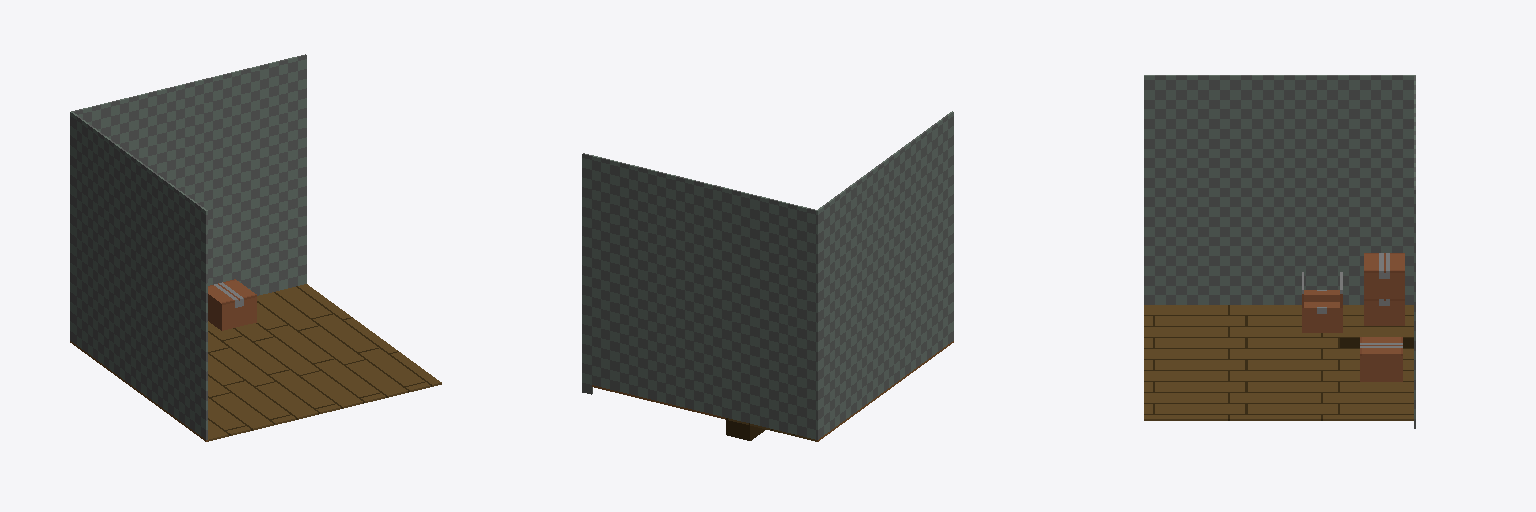
The picture shows the model from 3 angles: view 1: azimuth 30°, elevation 25°; view 2: azimuth 150°, elevation 25°; view 3: azimuth 270°, elevation 25°; orthographic projection.
Parts seen in each view (by area): view 1: porao; view 2: porao; view 3: porao.
Boxes of the visible parts, x1,y1,x2,y2 form: porao: [70, 54, 441, 441]; porao: [582, 111, 953, 441]; porao: [1144, 75, 1415, 428].
Size of the model in its own units: 126 by 126 by 126.
Materials: 1 (1 with a texture image).